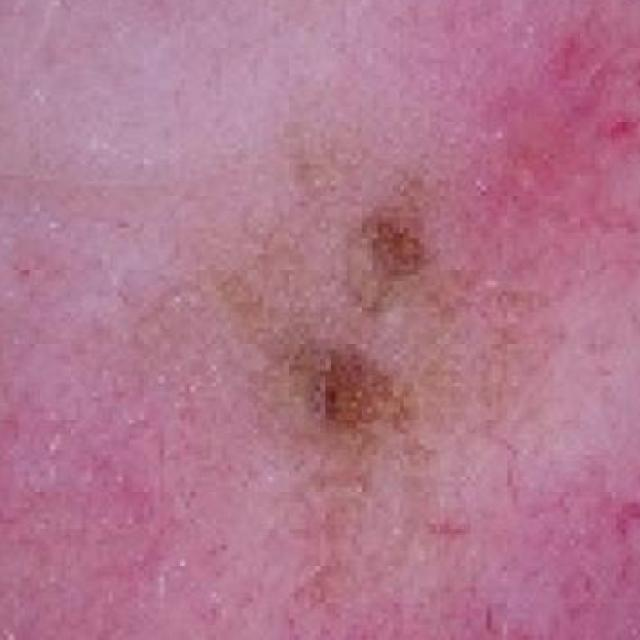BKL: (215, 191, 517, 524)
